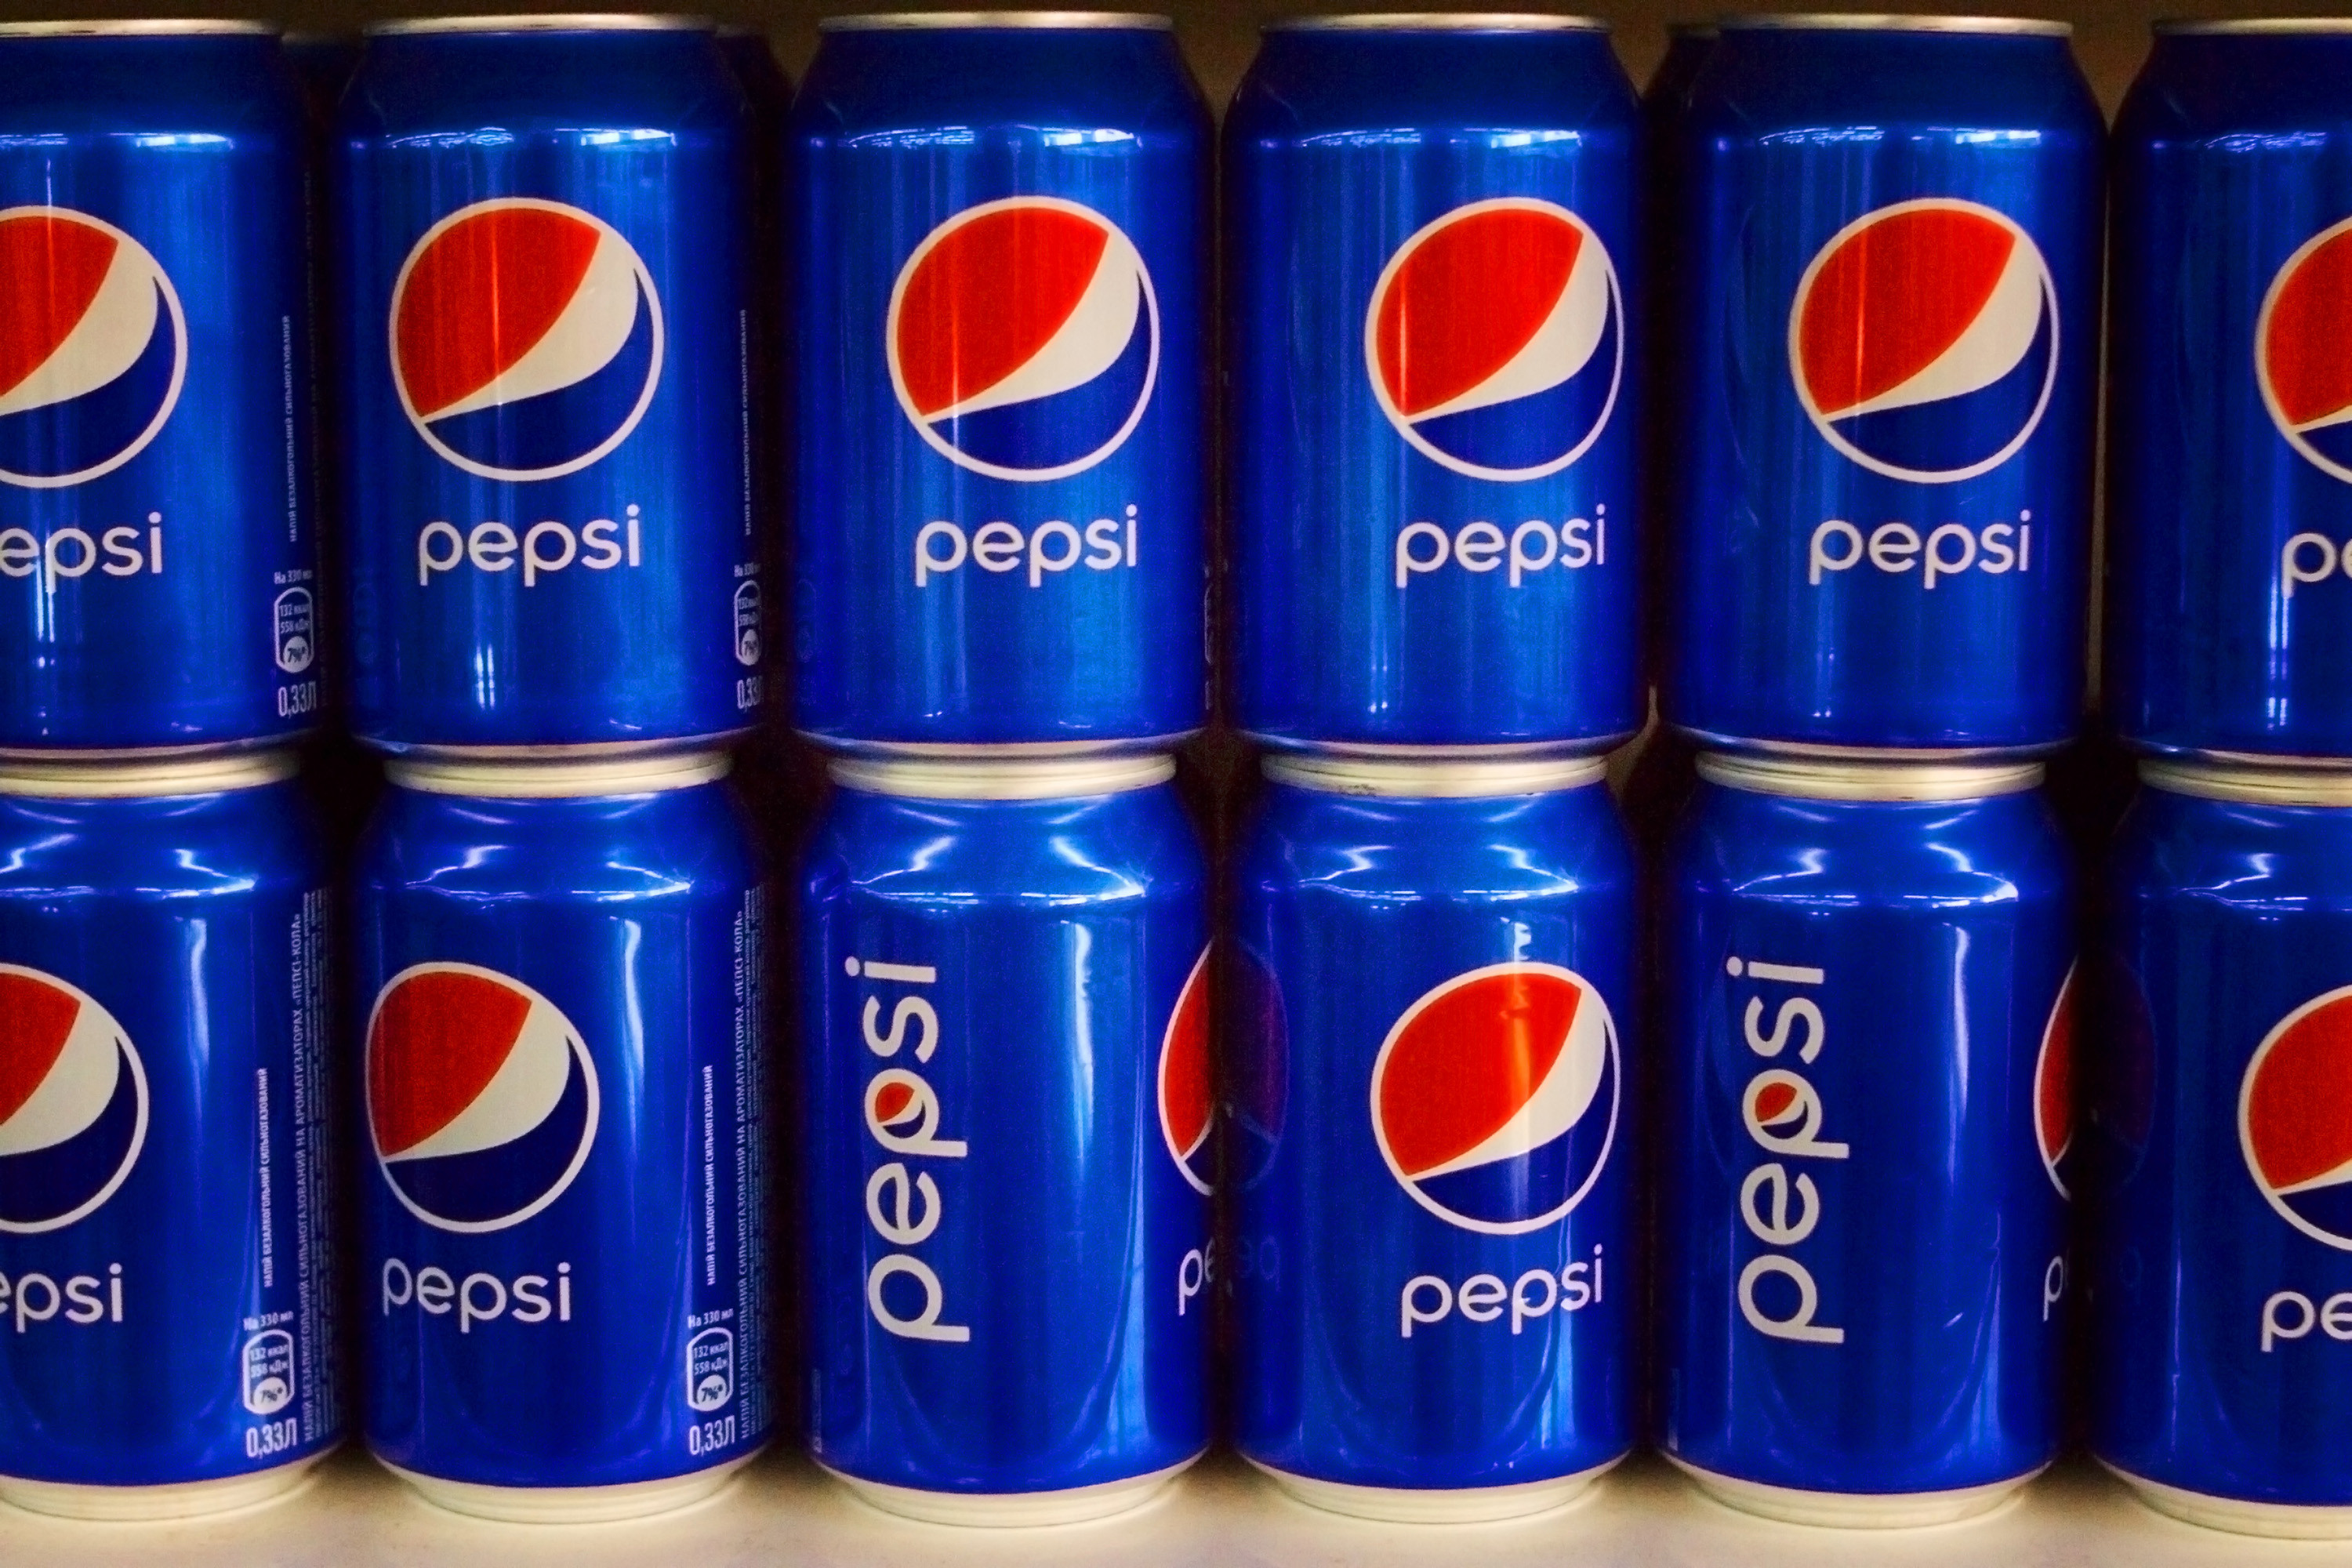pepsi: (383, 189, 663, 485), (880, 189, 1160, 485), (1785, 194, 2058, 488), (880, 189, 1150, 485), (1356, 193, 1620, 483), (1785, 194, 2042, 488), (1356, 193, 1610, 483), (1358, 952, 1613, 1234), (1365, 952, 1613, 1234), (354, 961, 604, 1239), (354, 961, 595, 1239), (2, 201, 185, 487), (2, 201, 170, 487), (2, 959, 147, 1230), (2235, 982, 2348, 1253), (2257, 196, 2348, 476), (1157, 938, 1206, 1185), (2026, 959, 2075, 1204), (1743, 1071, 1811, 1141), (868, 1074, 926, 1145)
